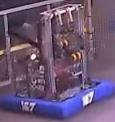blue_number: (81, 88, 97, 109), (18, 100, 39, 113)
